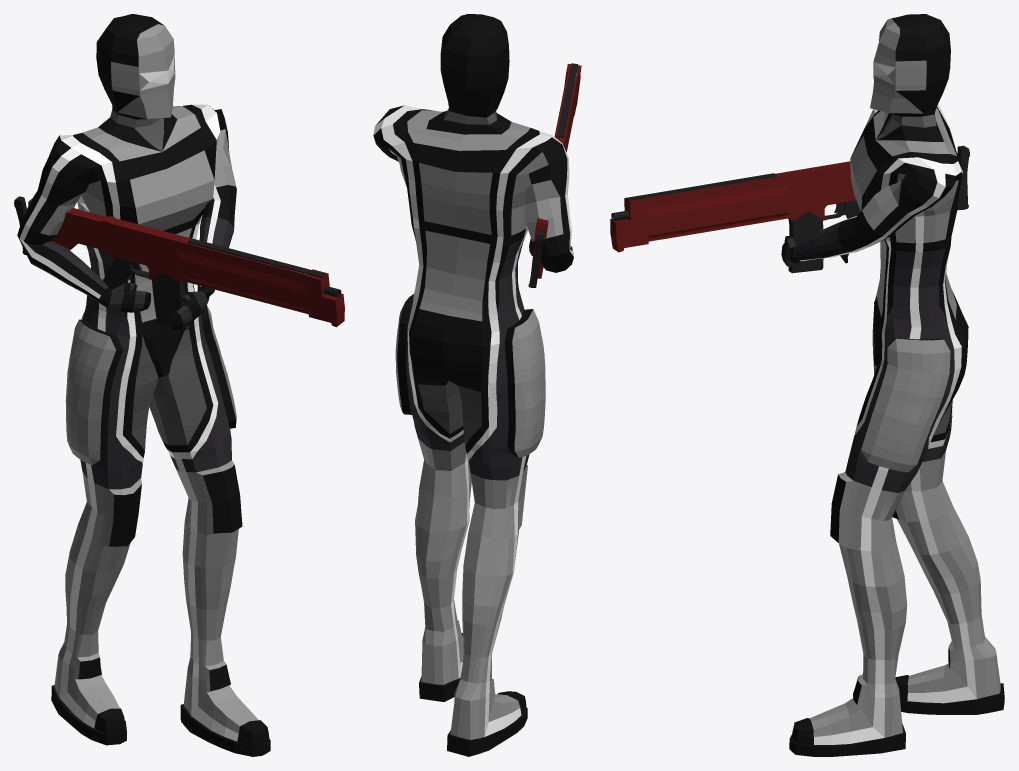
File: TKI6.obj
3 renders of one model, left to right at view 1: azimuth 30°, elevation 25°; view 2: azimuth 150°, elevation 25°; view 3: azimuth 270°, elevation 25°, orthographic.
Parts seen in each view (by area): view 1: metarig_object_metarig_mesh, Cube.001; view 2: metarig_object_metarig_mesh, Cube.001; view 3: metarig_object_metarig_mesh, Cube.001.
Boxes of the visible parts, bbox=[...] form: metarig_object_metarig_mesh: bbox=[17, 14, 270, 756]; Cube.001: bbox=[14, 196, 344, 330]; metarig_object_metarig_mesh: bbox=[373, 14, 573, 756]; Cube.001: bbox=[528, 63, 581, 287]; metarig_object_metarig_mesh: bbox=[781, 14, 1004, 756]; Cube.001: bbox=[610, 145, 969, 273].
Bounding box in the file's own units: 0.5066 × 1.73 × 0.8791.
Materials: 2 (2 with a texture image).
